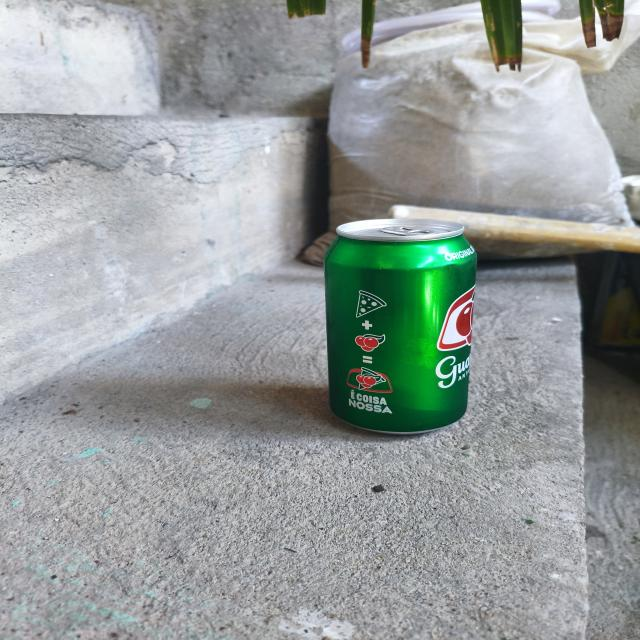Guarana: (303, 216, 493, 438)
